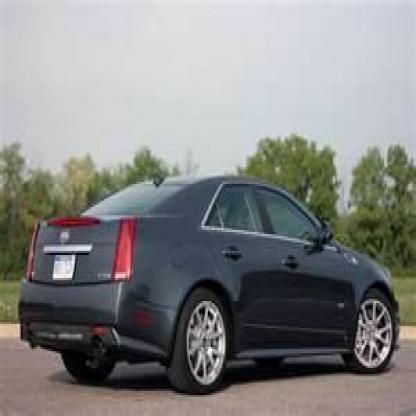Vehicle: (21, 178, 401, 397)
